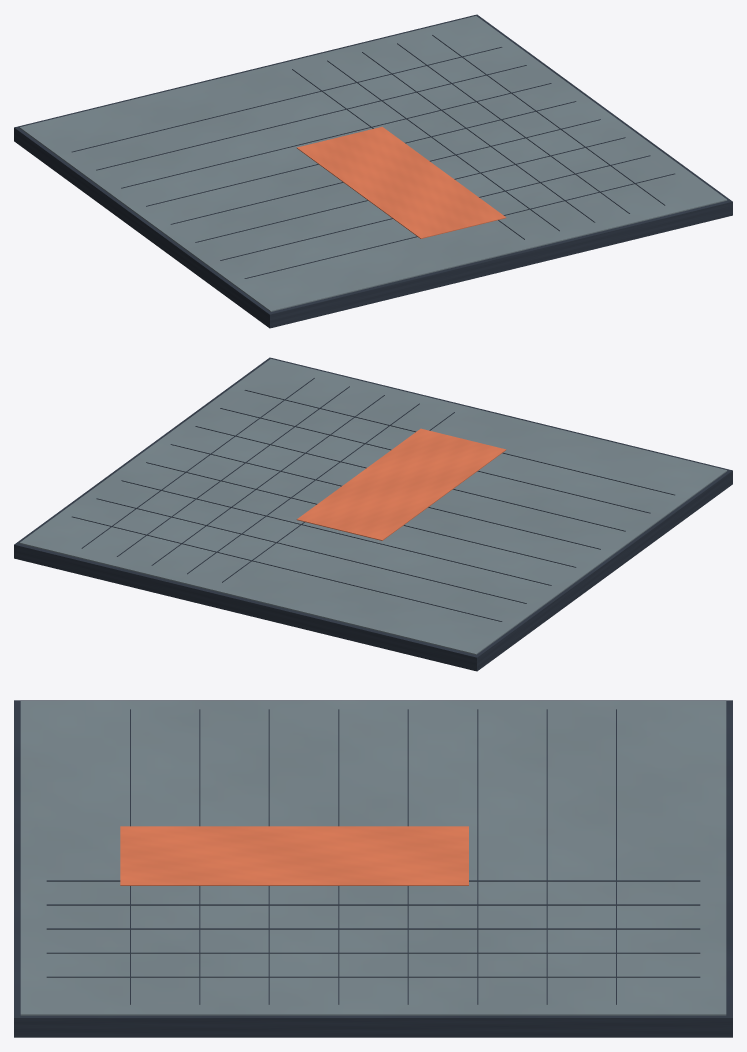
The model's file is atlas100-s021-a07.lod2.glb.
3 renders of one model, top to bottom at view 1: azimuth 30°, elevation 25°; view 2: azimuth 150°, elevation 25°; view 3: azimuth 270°, elevation 25°, orthographic. The views are drawn at different scales.
Visible parts, largest first — view 1: atlas100-s021-a07:part-001, atlas100-s021-a07:part-000, atlas100-s021-a07:part-021, atlas100-s021-a07:part-015, atlas100-s021-a07:part-013, atlas100-s021-a07:part-014, atlas100-s021-a07:part-019, atlas100-s021-a07:part-020, atlas100-s021-a07:part-016, atlas100-s021-a07:part-017, atlas100-s021-a07:part-018; view 2: atlas100-s021-a07:part-001, atlas100-s021-a07:part-000, atlas100-s021-a07:part-021, atlas100-s021-a07:part-014, atlas100-s021-a07:part-013, atlas100-s021-a07:part-015, atlas100-s021-a07:part-016, atlas100-s021-a07:part-017, atlas100-s021-a07:part-018, atlas100-s021-a07:part-020, atlas100-s021-a07:part-019; view 3: atlas100-s021-a07:part-001, atlas100-s021-a07:part-000, atlas100-s021-a07:part-021, atlas100-s021-a07:part-010, atlas100-s021-a07:part-009, atlas100-s021-a07:part-012, atlas100-s021-a07:part-011, atlas100-s021-a07:part-008, atlas100-s021-a07:part-014, atlas100-s021-a07:part-015.
Part boxes in pixels (x1,y1,x2,y2): atlas100-s021-a07:part-001: (19, 16, 727, 311); atlas100-s021-a07:part-000: (14, 14, 732, 328); atlas100-s021-a07:part-021: (297, 126, 506, 238); atlas100-s021-a07:part-015: (121, 83, 551, 188); atlas100-s021-a07:part-013: (72, 47, 502, 152); atlas100-s021-a07:part-014: (96, 65, 526, 170); atlas100-s021-a07:part-019: (220, 155, 650, 260); atlas100-s021-a07:part-020: (244, 173, 674, 278); atlas100-s021-a07:part-016: (146, 101, 576, 206); atlas100-s021-a07:part-017: (170, 119, 600, 224); atlas100-s021-a07:part-018: (195, 137, 625, 242); atlas100-s021-a07:part-001: (19, 359, 727, 654); atlas100-s021-a07:part-000: (14, 357, 732, 671); atlas100-s021-a07:part-021: (296, 428, 506, 540); atlas100-s021-a07:part-014: (96, 498, 526, 603); atlas100-s021-a07:part-013: (72, 516, 502, 621); atlas100-s021-a07:part-015: (121, 480, 551, 585); atlas100-s021-a07:part-016: (146, 462, 576, 567); atlas100-s021-a07:part-017: (170, 444, 600, 549); atlas100-s021-a07:part-018: (195, 426, 625, 531); atlas100-s021-a07:part-020: (244, 390, 674, 495); atlas100-s021-a07:part-019: (220, 408, 650, 513); atlas100-s021-a07:part-001: (20, 701, 726, 1015); atlas100-s021-a07:part-000: (14, 700, 732, 1037); atlas100-s021-a07:part-021: (120, 826, 468, 885); atlas100-s021-a07:part-010: (46, 928, 700, 929); atlas100-s021-a07:part-009: (46, 904, 700, 905); atlas100-s021-a07:part-012: (46, 976, 700, 977); atlas100-s021-a07:part-011: (46, 952, 700, 953); atlas100-s021-a07:part-008: (46, 880, 700, 881); atlas100-s021-a07:part-014: (546, 709, 547, 1004); atlas100-s021-a07:part-015: (477, 709, 478, 1004).
Bounding box in the file's own units: 11.9 × 0.404 × 11.39.
Materials: 3 (3 with a texture image).
